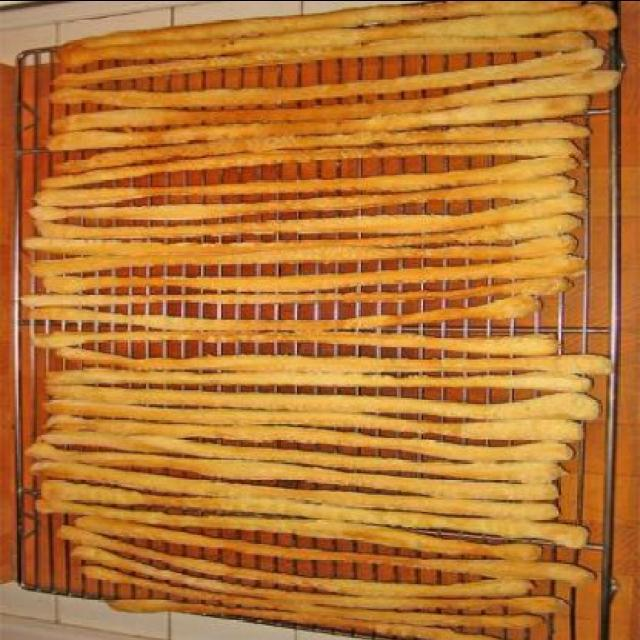Grissini: (28, 2, 610, 628)
